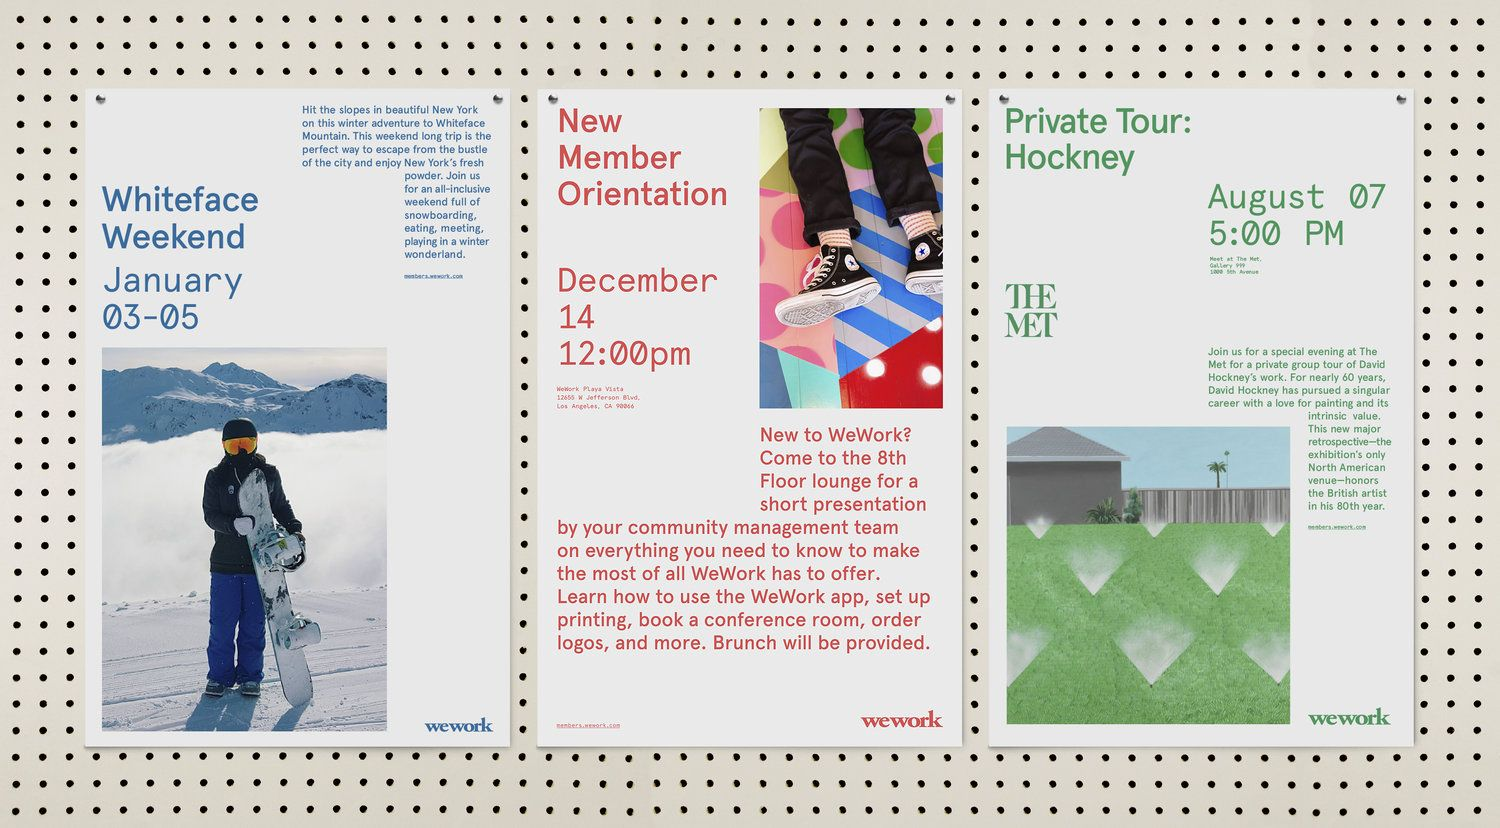wework: (858, 707, 944, 730), (1307, 705, 1393, 727), (421, 715, 495, 734)
